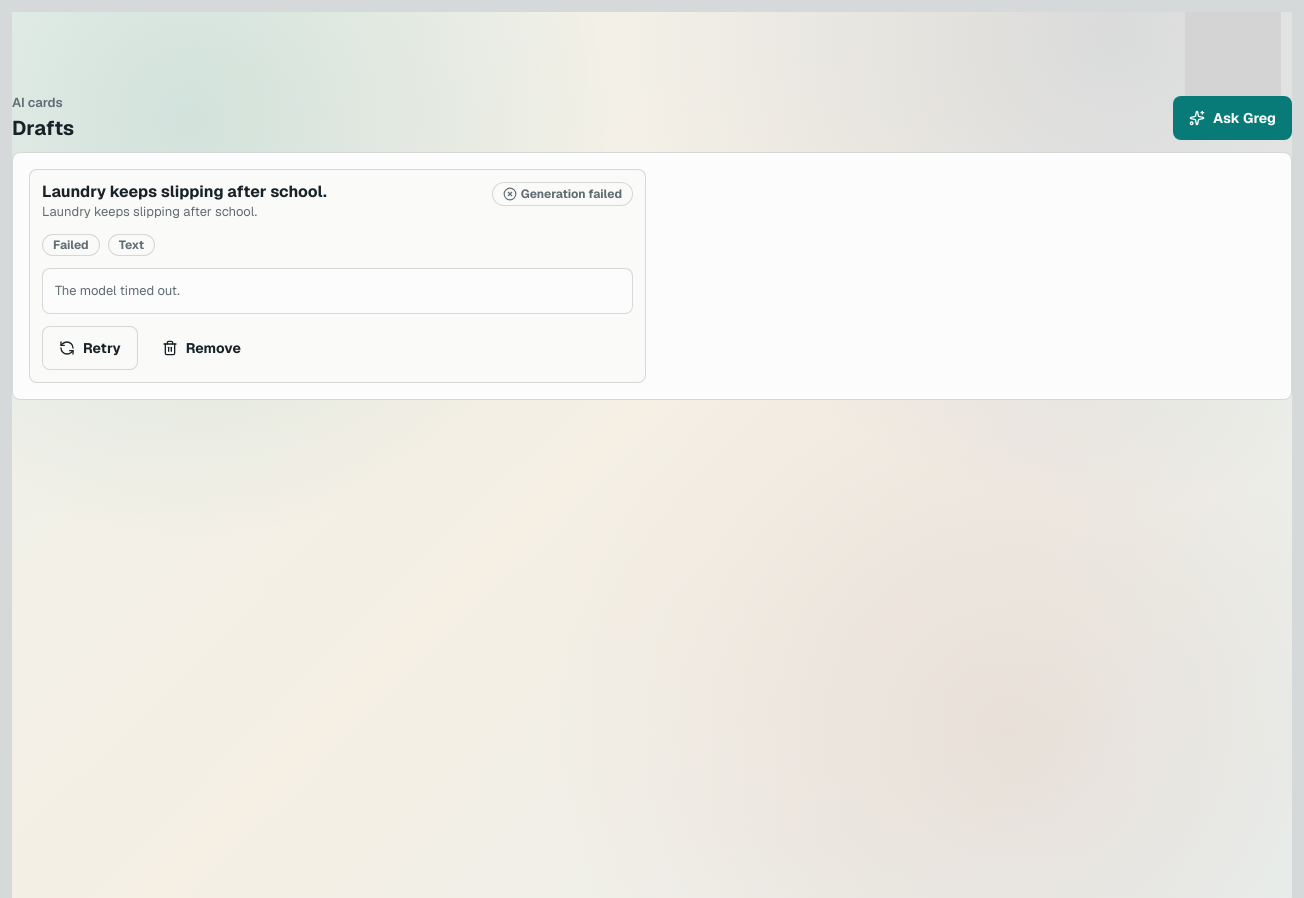
Test: AiTaskManager › updates a failed draft after retry succeeds without waiting for refreshed props
This screenshot has width=1304, height=898.
Click the button "Laundry keeps slipping": [184, 192] box [42,182,633,256]
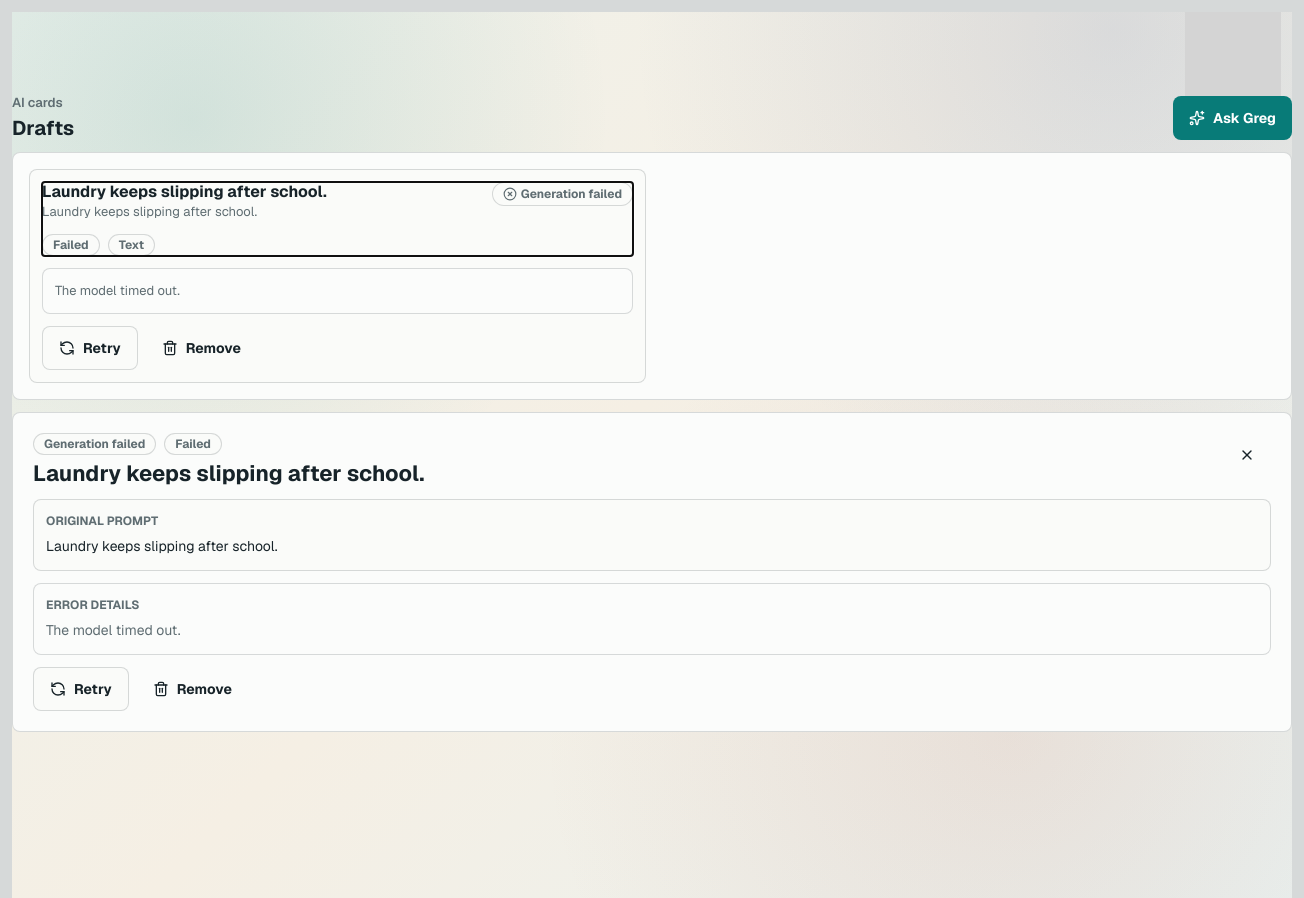
Click the button "Retry" below "Error details": [81, 689] box [33,667,129,711]
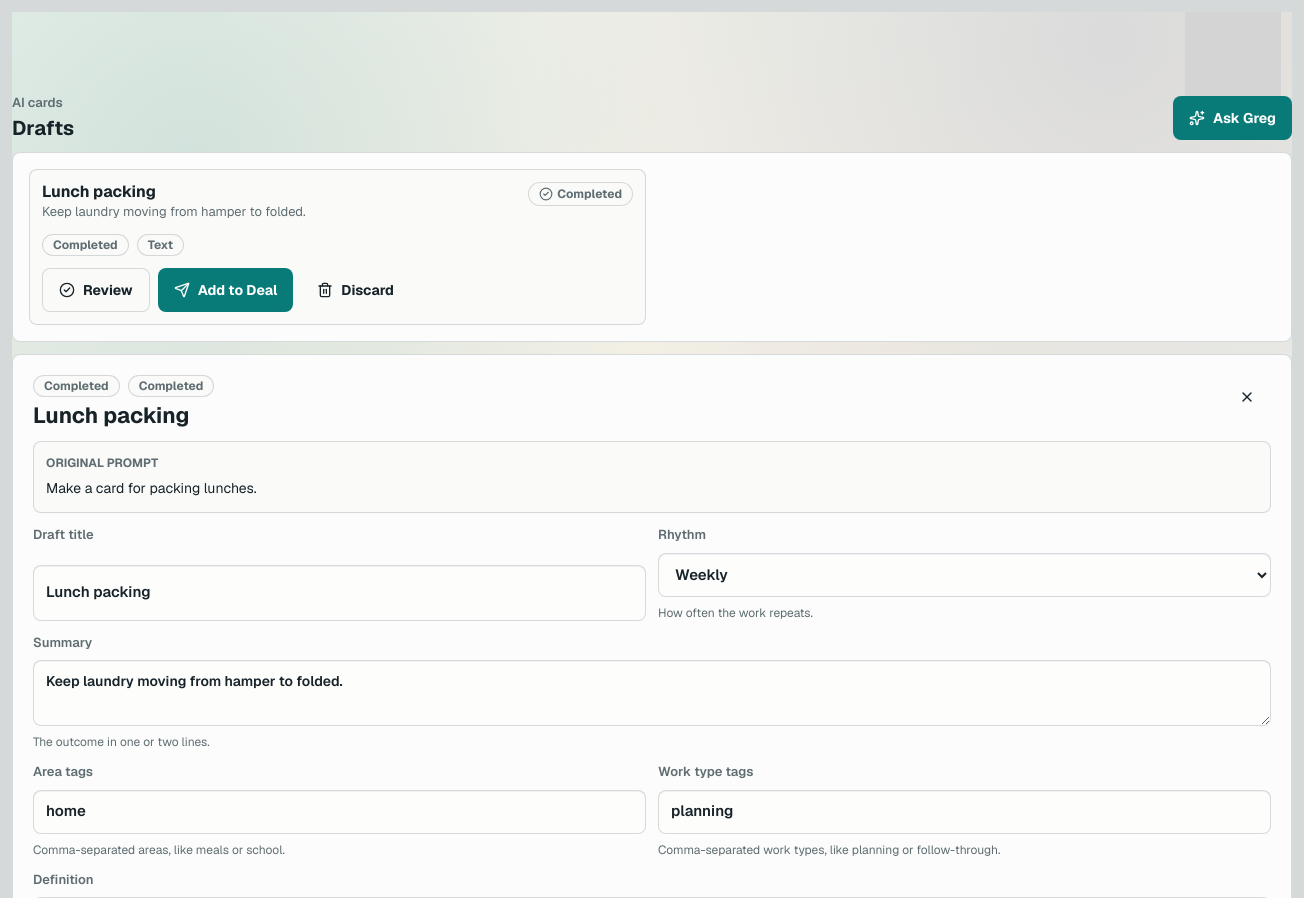
expect the field labelled "Draft title" holds "Lunch packing": met, box [33,564,646,620]
expect the text "Make a card for packing lunches." is shown: met, box [46,479,257,497]
expect the text "The model timed out." is gone: met
